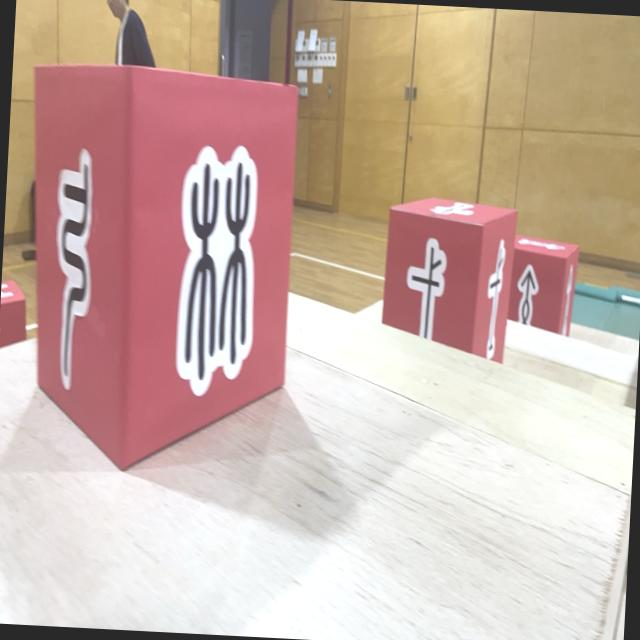12: (516, 261, 540, 325), (562, 262, 573, 336), (518, 236, 567, 252)
2: (170, 142, 264, 404)
3: (46, 144, 101, 393)
9: (404, 234, 448, 342), (482, 237, 508, 359), (430, 200, 476, 219)
fighter: (11, 58, 302, 480), (379, 192, 519, 366), (506, 234, 580, 338), (0, 277, 29, 350)
